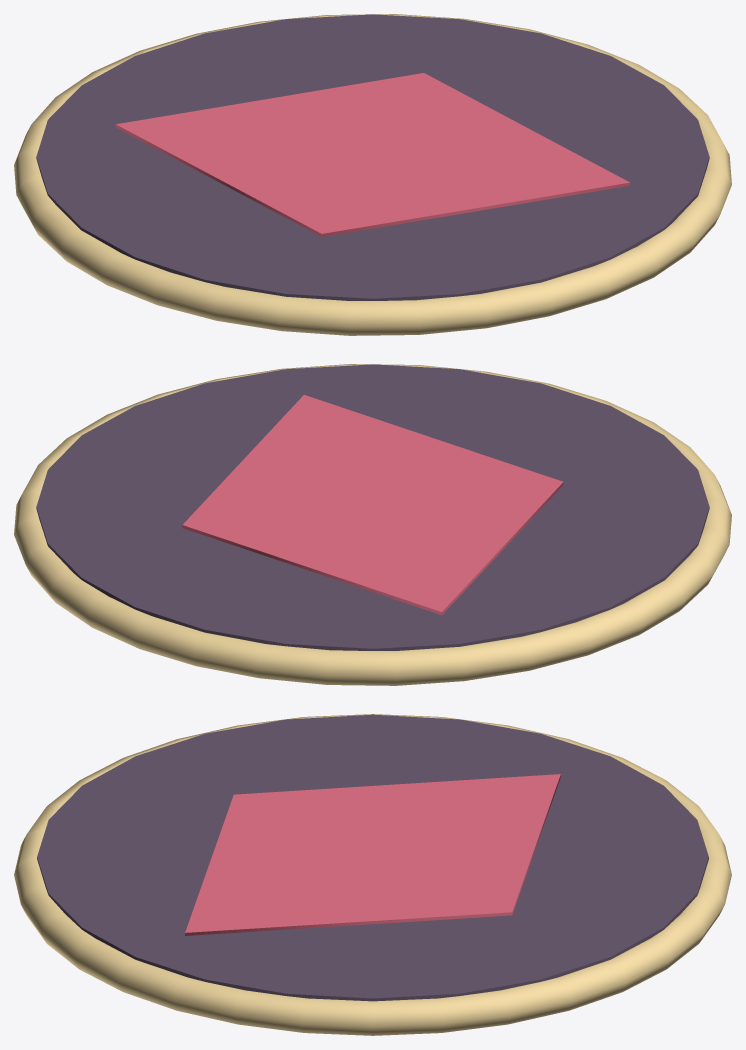
Rendered from vesper_left.glb.
3 renders of one model, top to bottom at view 1: azimuth 30°, elevation 25°; view 2: azimuth 150°, elevation 25°; view 3: azimuth 270°, elevation 25°, orthographic.
Visible parts, largest first — view 1: vesper_left; view 2: vesper_left; view 3: vesper_left.
Boxes of the visible parts, x1,y1,x2,y2 form: vesper_left: (14, 14, 731, 335); vesper_left: (14, 364, 731, 685); vesper_left: (14, 714, 731, 1035).
Bounding box in the file's own units: 0.62 × 0.1045 × 0.62.
